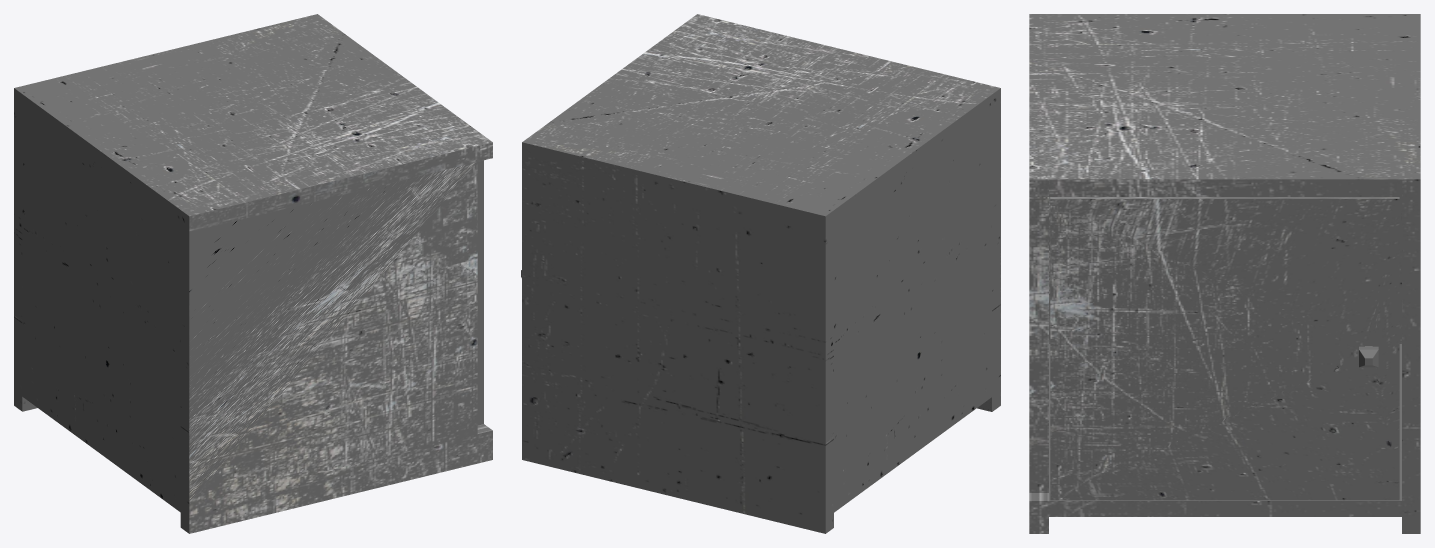
The model's file is inter_tumba_svetonosov.fbx.
The picture shows the model from 3 angles, left to right: view 1: azimuth 30°, elevation 25°; view 2: azimuth 150°, elevation 25°; view 3: azimuth 270°, elevation 25°; orthographic projection. The views are drawn at different scales.
Parts seen in each view (by area): view 1: Base; view 2: Base; view 3: Door, Base.
Part boxes in pixels (left/top/right/bottom): Base: left=14, top=14, right=492, bottom=533; Base: left=522, top=14, right=1000, bottom=533; Door: left=1050, top=197, right=1399, bottom=500; Base: left=1029, top=14, right=1420, bottom=533.
Size of the model in its own units: 215 by 200 by 200.
Materials: 1 (1 with a texture image).
